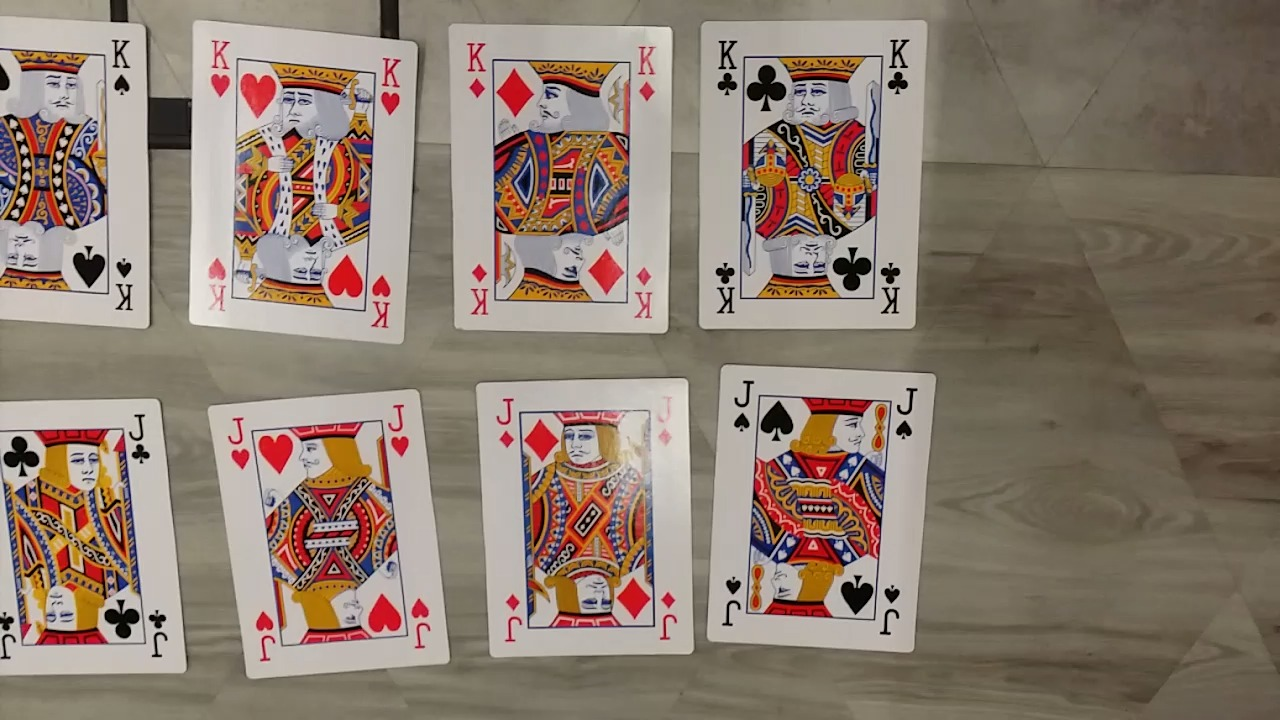10_diamond: (475, 370, 695, 656)
jack_club: (0, 396, 189, 672)
jack_heart: (206, 384, 451, 680)
jack_spade: (694, 361, 937, 655)
king_club: (698, 19, 929, 333)
king_diamond: (448, 25, 671, 335)
king_heart: (189, 16, 419, 345)
king_spade: (0, 14, 151, 328)
